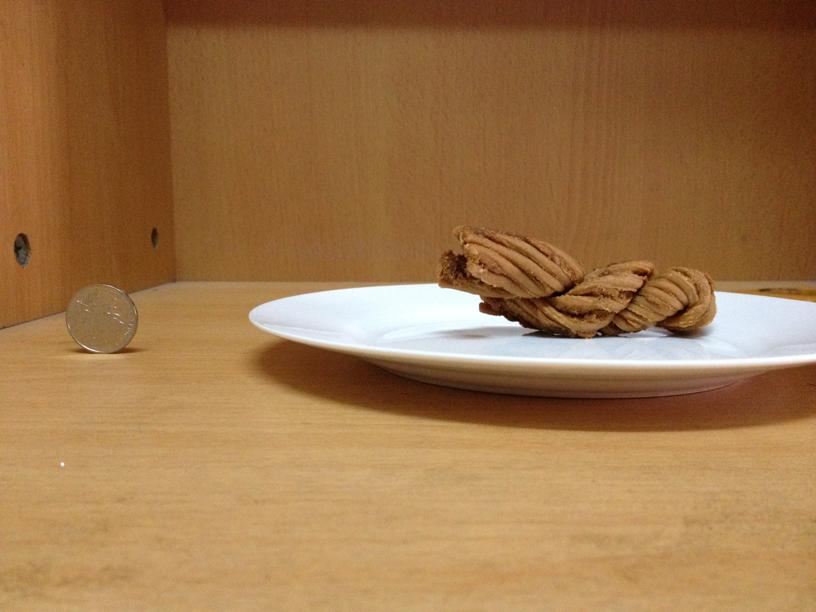coin: (61, 282, 139, 352)
fired_dough_twist: (437, 225, 720, 337)
